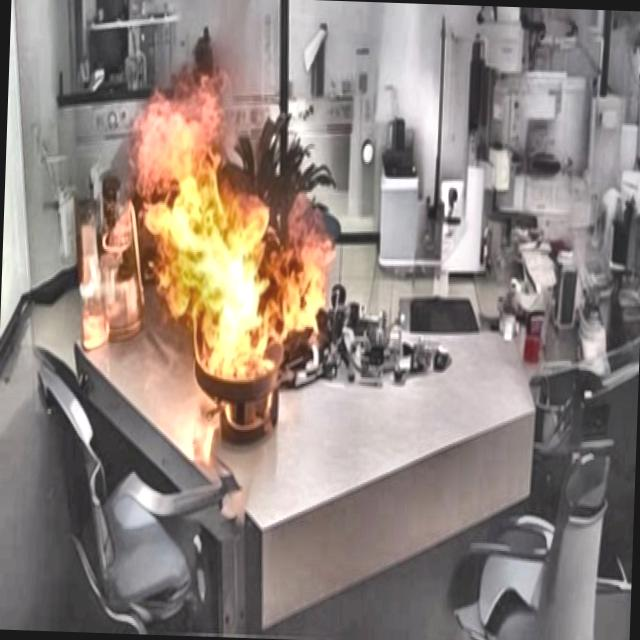fire: (121, 36, 346, 431)
